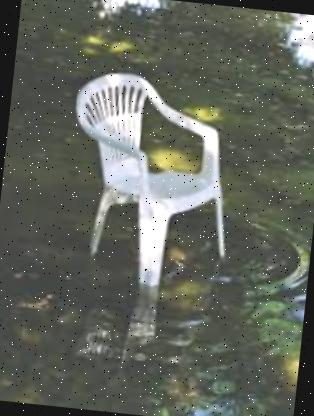chair: (54, 60, 248, 296)
